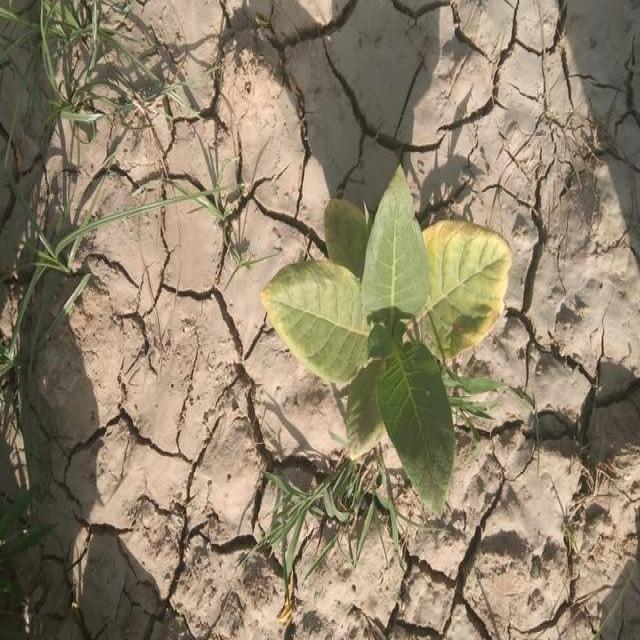crop: (266, 163, 514, 519)
